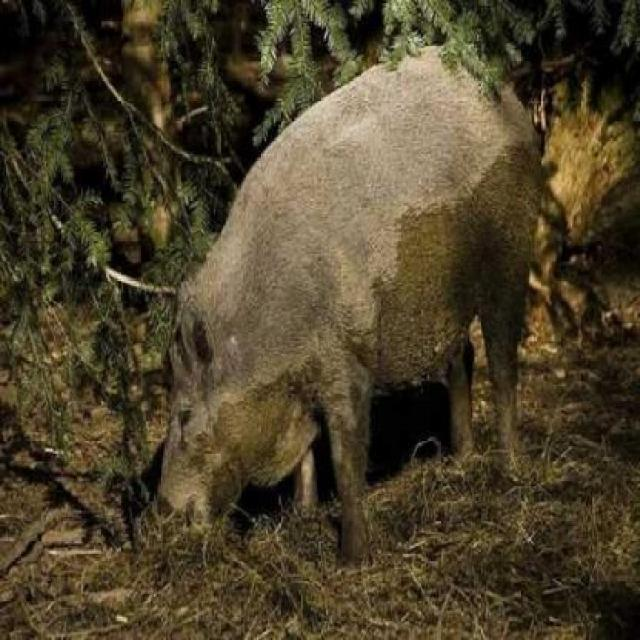pig: (108, 23, 555, 572)
